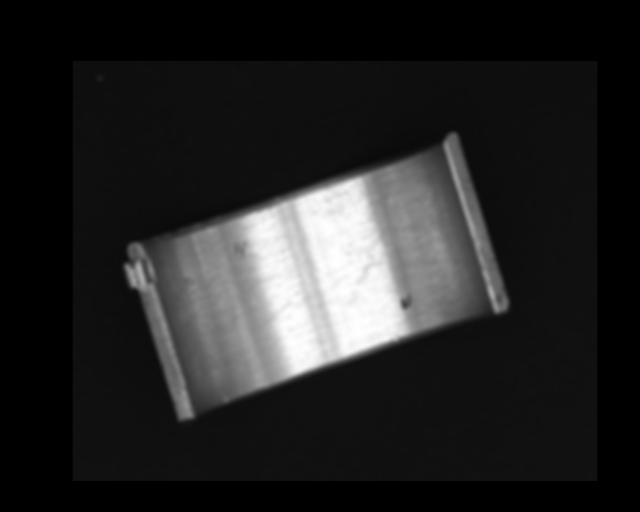blot: (348, 242, 387, 288), (400, 292, 411, 311)
bruise: (233, 239, 248, 257), (391, 334, 398, 342)
nick: (255, 289, 302, 328), (219, 392, 228, 403)
